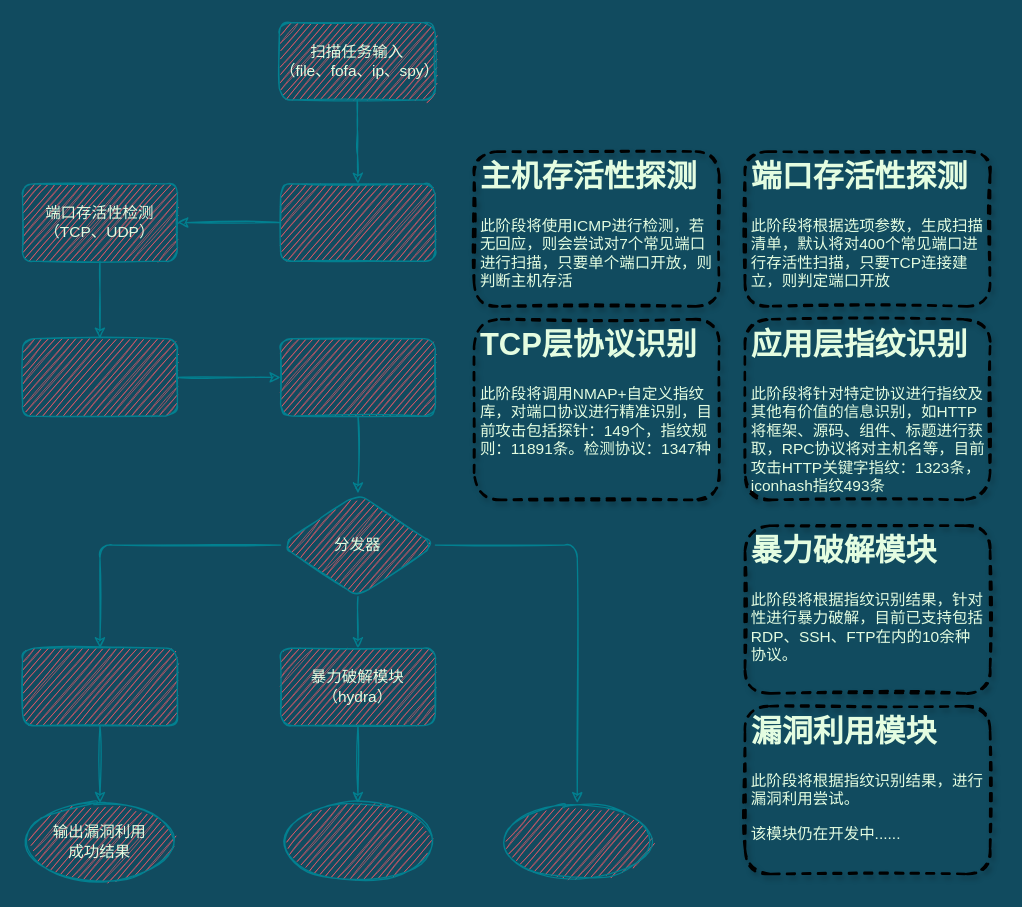
This 1022x907 diagram has some shape labels left out. The shapes that lost their labels are listed below. From the top down, each one's centre as x and y in pixels, then its label:
point (357, 222): 主机存活性检测 （ICMP、TCP）
point (99, 376): TCP层协议识别 （NMAP）
point (357, 376): 应用层协议识别 （Title、CMS、Hostname等）
point (99, 686): 漏洞利用模块 （exploit）
point (357, 841): 输出暴力破解 成功结果
point (577, 841): 输出指纹识别结果
